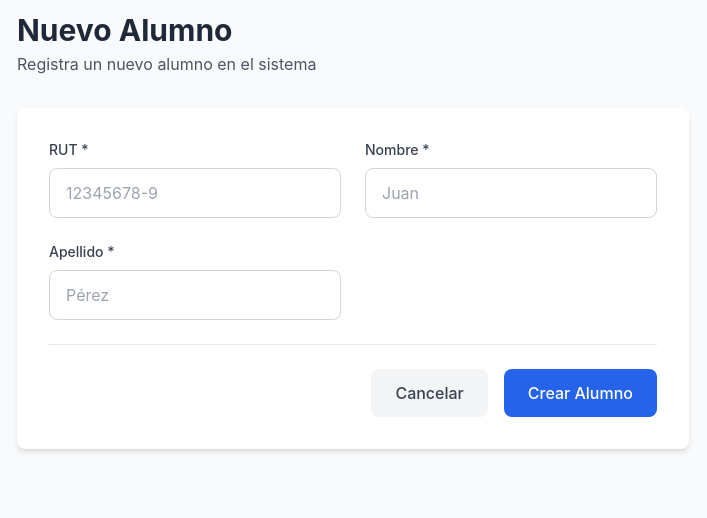
Test: AlumnoForm › debe actualizar los valores de los inputs y limpiar los errores al escribir
Note: Gatillar errores
Click the button "Crear Alumno".
click(580, 393)  # box [504,369,657,417]
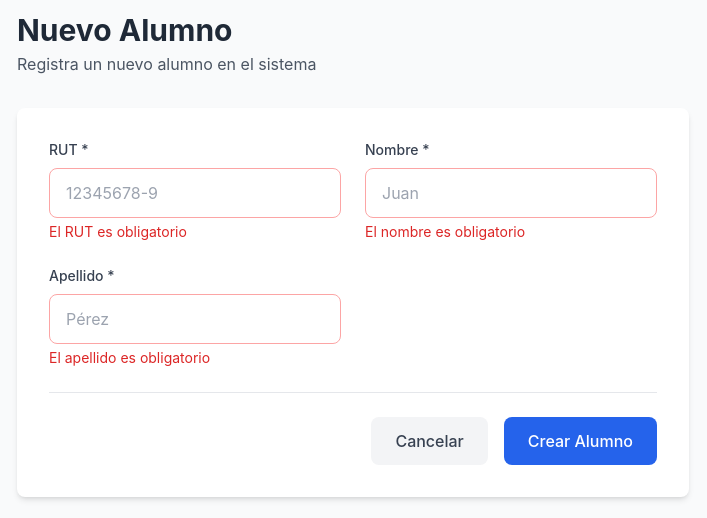
Expected: the text "El RUT es obligatorio" is shown, [49,223,187,240]
Note: Escribir en RUT
Type "1234-5" into the field with placeholder "12345678-9".
click(195, 193); type("1234-5")  # box [49,168,341,218]
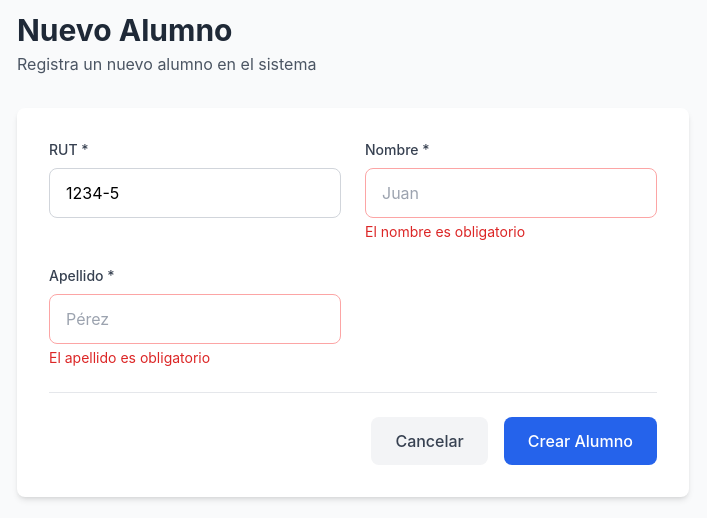
Expected: the text "El RUT es obligatorio" is gone
